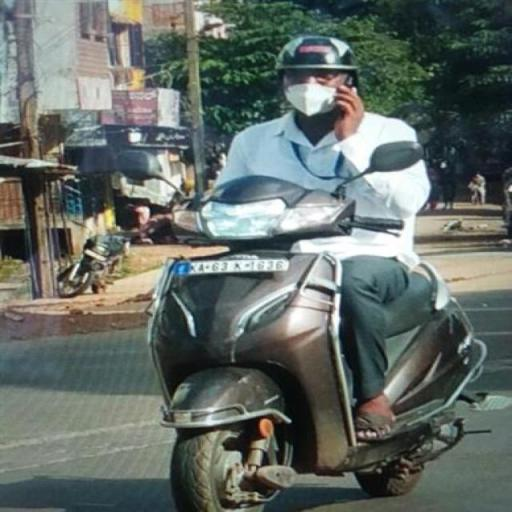using mobile: (337, 70, 369, 140)
